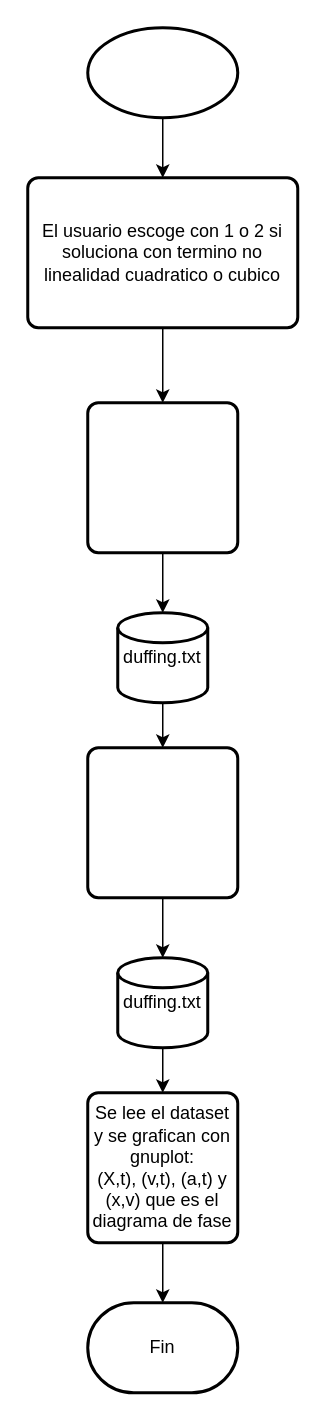
Image size: 324x1419. Some labels were removed from this diagram. Each missing label, with the centre of its shape:
Inicio: pixel 162 72
se carga el dataset y se realiza derivación numérica (diferencias centradas): pixel 162 822
Se soluciona con RK4 la ecuación obteniendo datos de tiempo y posición: pixel 162 477
